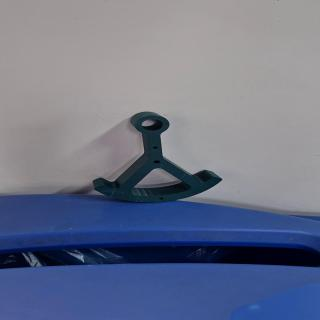haptic: (92, 111, 223, 203)
